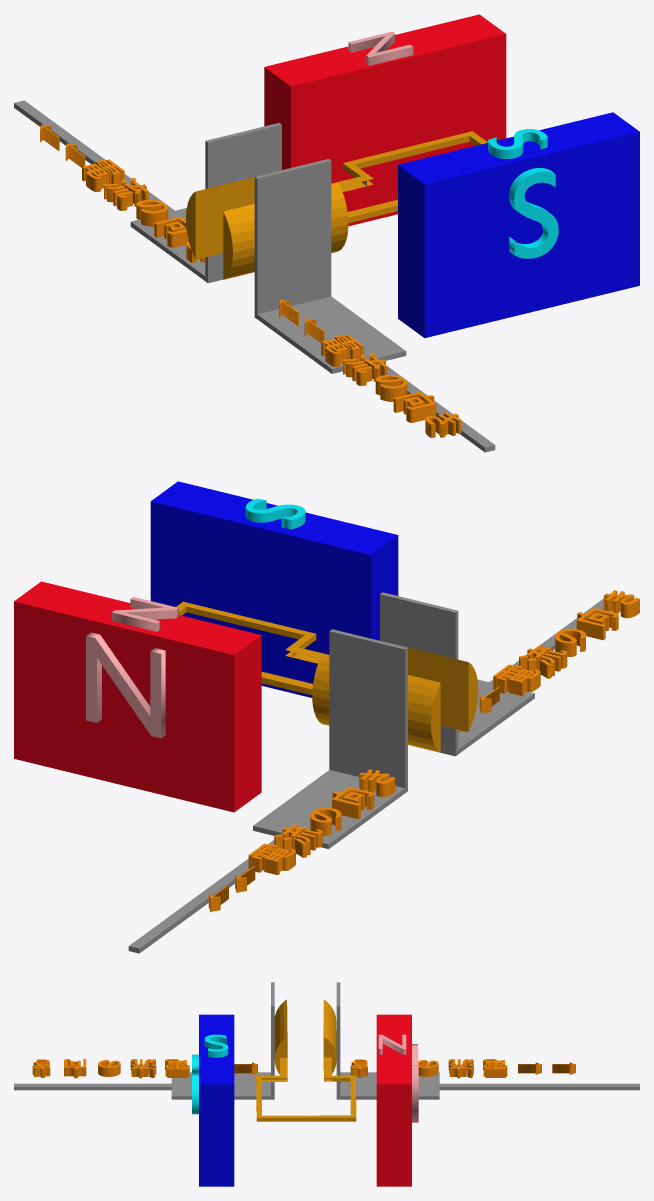
Rendered from moter.gltf.
The picture shows the model from 3 angles, top to bottom: view 1: azimuth 30°, elevation 25°; view 2: azimuth 150°, elevation 25°; view 3: azimuth 270°, elevation 25°; orthographic projection. The views are drawn at different scales.
Visible parts, largest first — view 1: 立方体.004, 立方体, 立方体.001, 円柱, 立方体.003, テキスト.004, テキスト.005, テキスト, 立方体.005, テキスト.003, テキスト.002, 立方体.006; view 2: 立方体, 立方体.004, 立方体.003, 円柱, 立方体.001, テキスト.005, テキスト.004, テキスト.001, 立方体.005, テキスト.003, テキスト.002; view 3: 立方体, 立方体.004, 円柱, テキスト.004, テキスト.005, 立方体.003, 立方体.001, 立方体.005, 立方体.006, テキスト.001, テキスト.002, テキスト (+1 smaller).
Boxes of the visible parts, x1,y1,x2,y2 form: 立方体.004: (398,112,639,338); 立方体: (264,14,506,226); 立方体.001: (254,159,406,373); 円柱: (186,131,487,279); 立方体.003: (130,122,281,283); テキスト.004: (279,299,461,437); テキスト.005: (40,124,205,262); テキスト: (509,168,558,258); 立方体.005: (14,100,174,212); テキスト.003: (348,31,413,65); テキスト.002: (488,129,547,158); 立方体.006: (369,360,495,452); 立方体: (14,581,261,812); 立方体.004: (150,481,398,697); 立方体.003: (253,629,407,849); 円柱: (176,601,478,752); 立方体.001: (380,592,534,756); テキスト.005: (208,769,395,911); テキスト.004: (458,590,639,732); テキスト.001: (86,632,165,738); 立方体.005: (128,840,274,953); テキスト.003: (112,597,178,631); テキスト.002: (245,498,305,529); 立方体: (376,1014,411,1186); 立方体.004: (199,1014,234,1186); 円柱: (256,999,356,1121); テキスト.004: (32,1059,257,1078); テキスト.005: (350,1059,575,1078); 立方体.003: (336,982,439,1099); 立方体.001: (171,982,274,1099); 立方体.005: (439,1083,639,1090); 立方体.006: (14,1083,171,1090); テキスト.001: (412,1044,418,1122); テキスト.002: (204,1034,228,1057); テキスト: (192,1054,198,1114).
Size of the model in its own units: 6.06 by 2.69 by 14.09.
